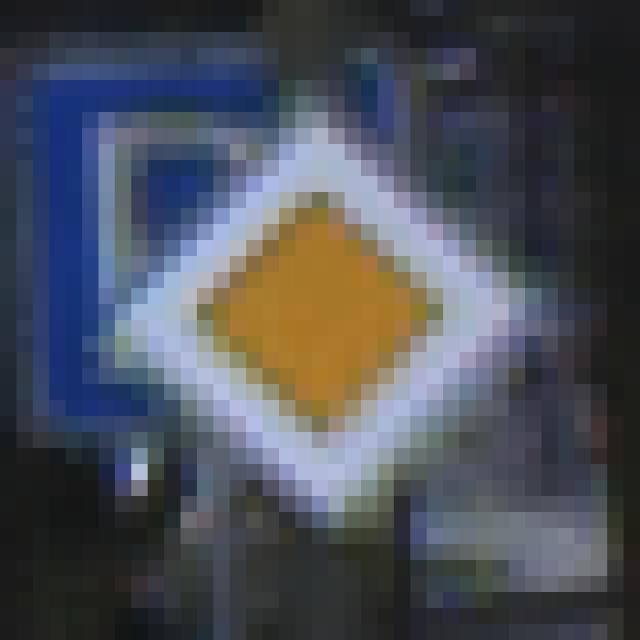Main Road: (83, 97, 543, 561)
